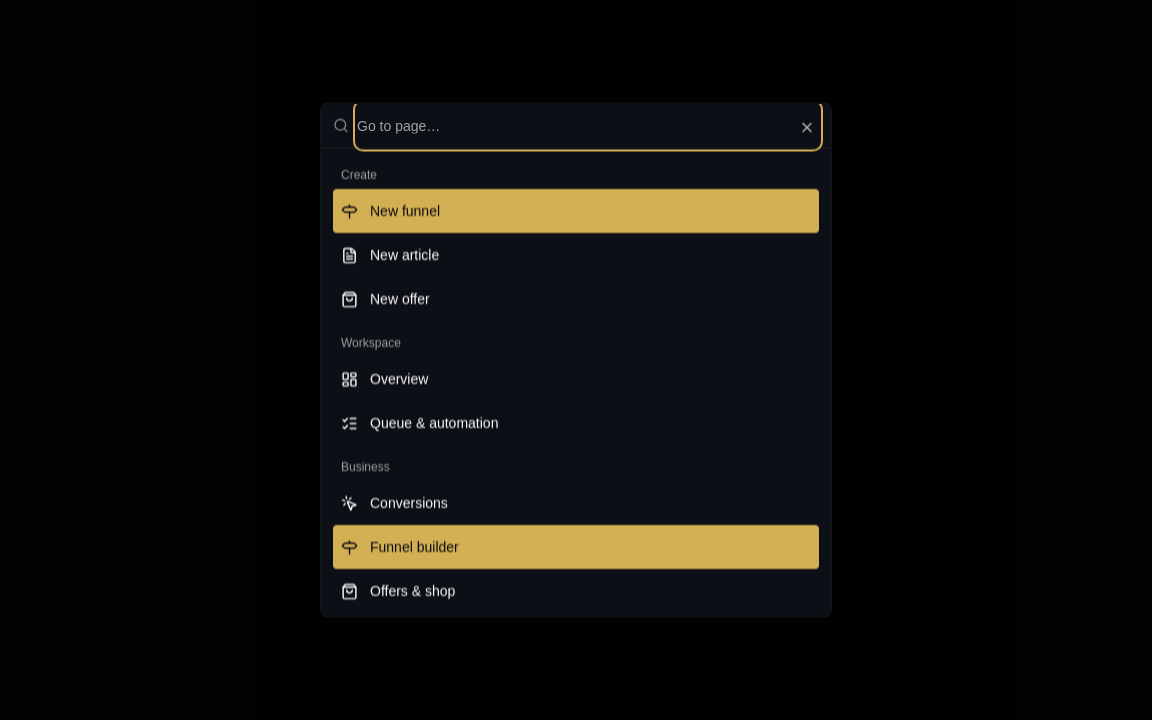
Test case: admin command navigation › Enter on site config opens the highlighted best match /admin/site-settings
Later steps or results of the test are not shown.
Type "site config" into the dropdown.
click(588, 126); type("site config")  # box [357, 104, 819, 148]
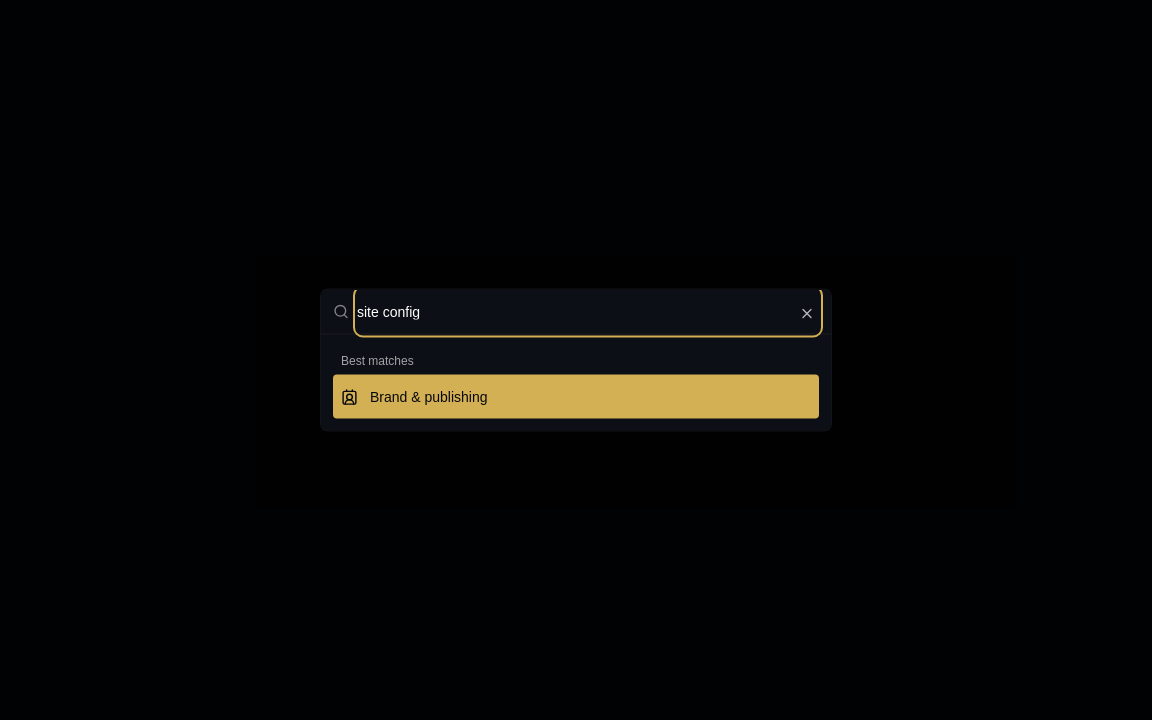
Result: the option "Brand & publishing" is shown at [333, 374, 819, 418]
